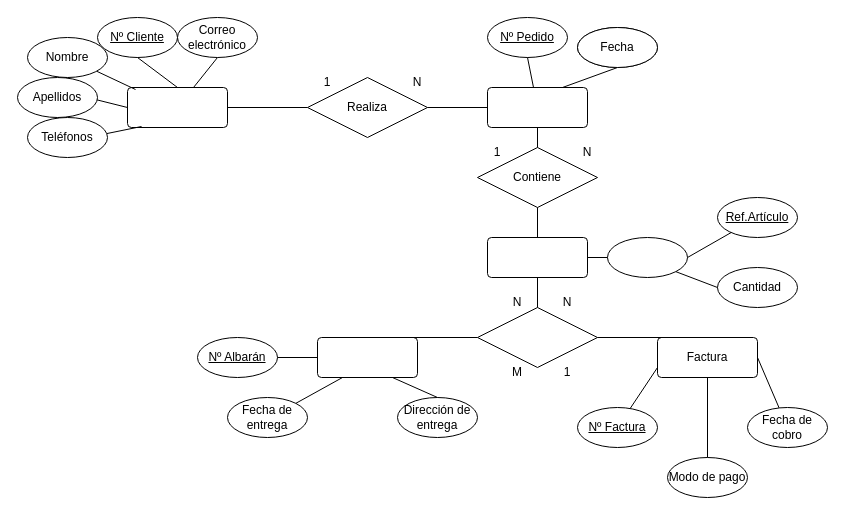
The diagram is 845 pixels wide and 515 high, and some of its shapes have lost their labels. Each missing label, with the centre of its shape:
"Albarán" belongs at (367,357).
"Artículo" belongs at (647,257).
"Cliente" belongs at (177,107).
"Constituye" belongs at (537,337).
"Línea de detalle" belongs at (537,257).
"Pedido" belongs at (537,107).
